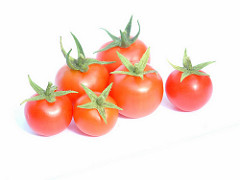tomato: (22, 81, 76, 135), (112, 62, 163, 119), (94, 22, 152, 69), (169, 57, 215, 114), (55, 52, 112, 96), (72, 90, 116, 135)
